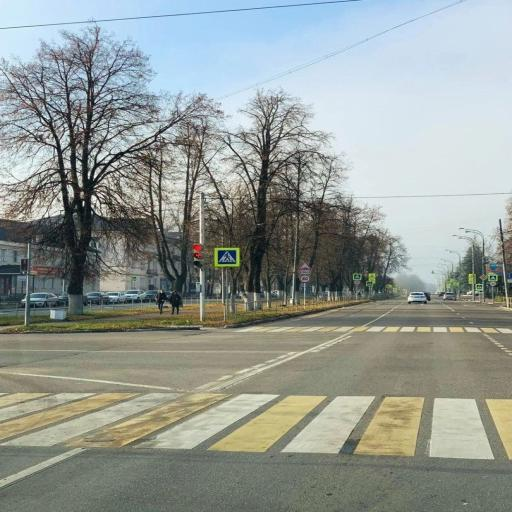bottle: (406, 291, 428, 305)
closet: (0, 391, 511, 467), (207, 323, 511, 335)
laptop: (155, 288, 166, 314)
ramp: (0, 301, 511, 511)
